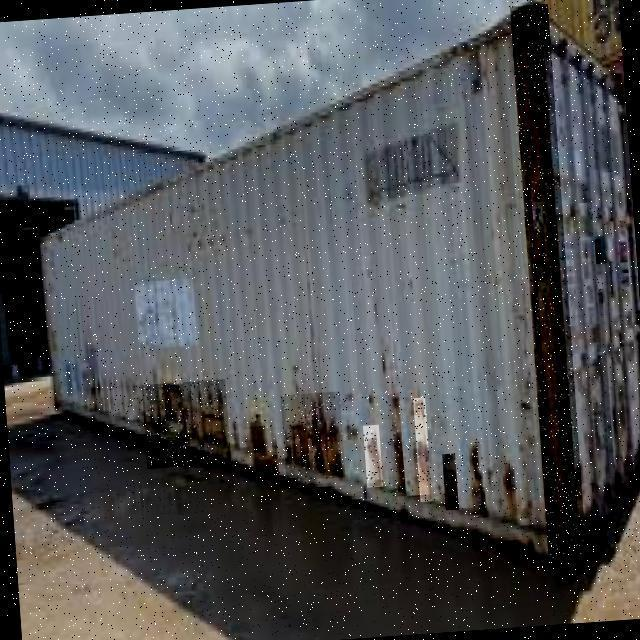rust: (511, 5, 588, 561), (142, 380, 232, 470), (281, 393, 346, 483), (412, 398, 433, 503), (385, 394, 406, 497), (249, 415, 279, 479), (470, 442, 487, 519), (364, 425, 384, 488), (503, 454, 519, 528), (443, 454, 460, 511)
